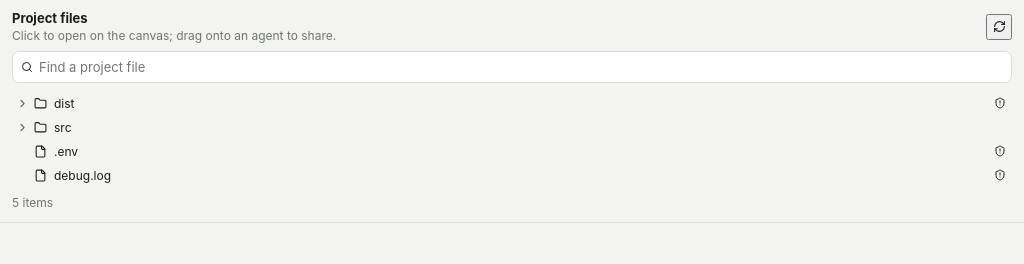
Test: WorkspaceProjectTree › expands and collapses folders in place without leaving the tree
The image size is (1024, 264).
Click the list item with aria-label "Expand folder src".
click(22, 127)  # box [12,115,1012,139]
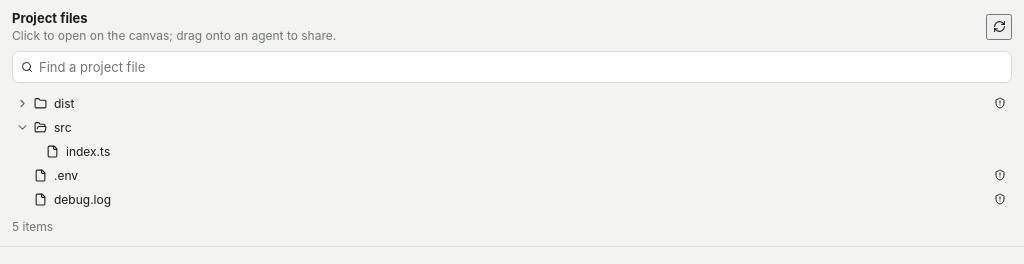
Expected: the list item with aria-label "Collapse folder src" is expanded
Press ArrowLeft in the list item with aria-label "Collapse folder src", box [12,115,1012,139]
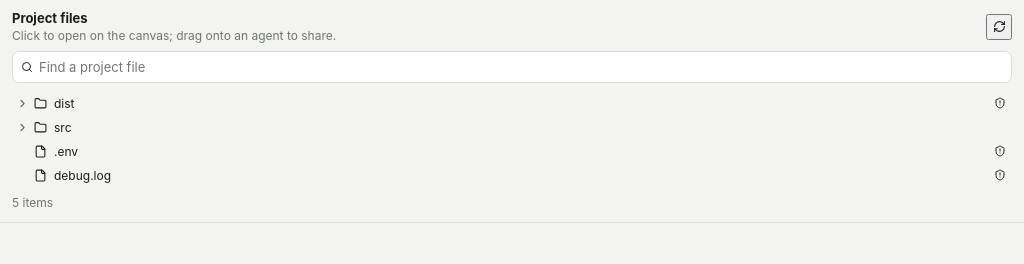
Press ArrowRight in the list item with aria-label "Expand folder src", box [12,115,1012,139]
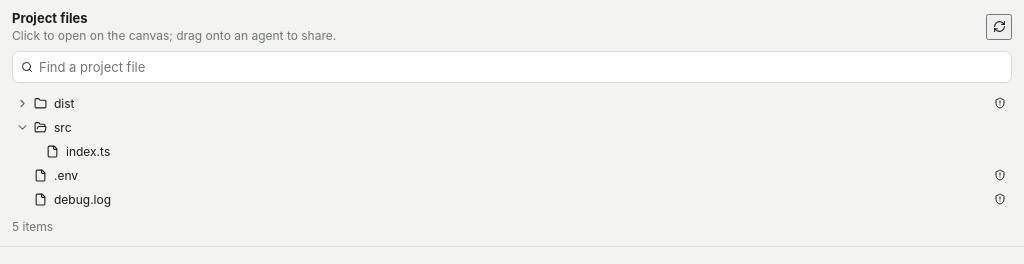
Expected: the list item with aria-label "File src/index.ts" is shown, [12,139,1012,163]
